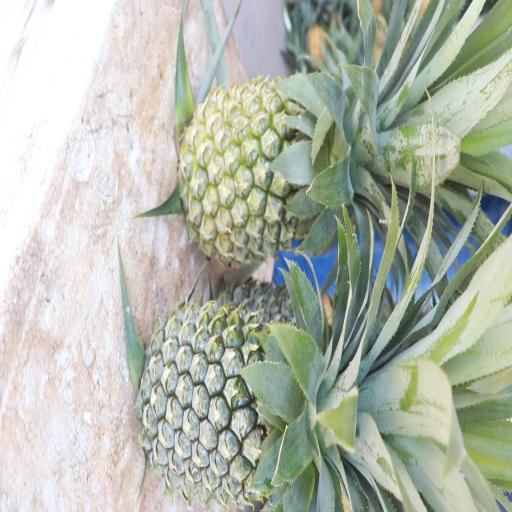Pineapple - v8 v1: (185, 77, 362, 262)
